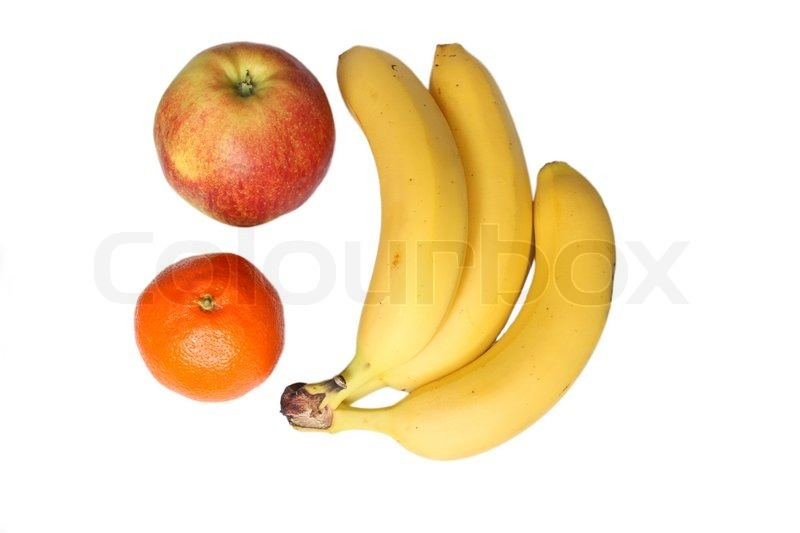apple: (156, 44, 347, 240)
banana: (379, 157, 643, 485), (390, 38, 544, 415), (337, 39, 463, 426)
orange: (130, 262, 294, 412)
